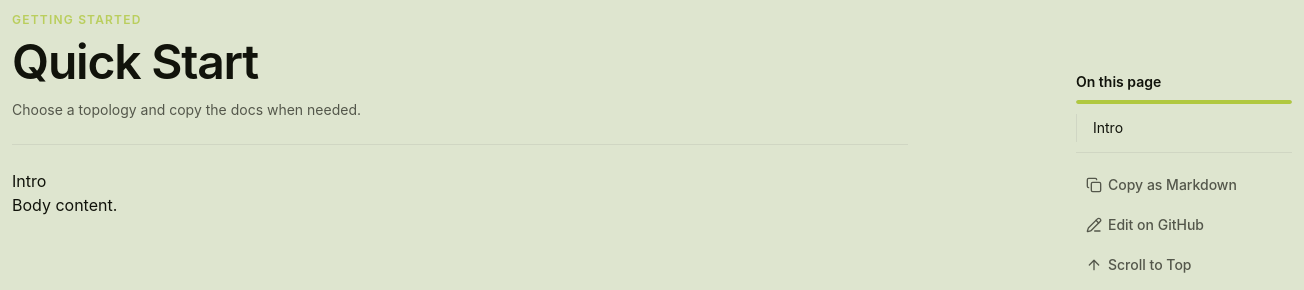
Test: DocsPage › copies the exact markdown source to the clipboard
Click the button "Copy as Markdown" at (1184, 185), box [1076,169,1292,201]
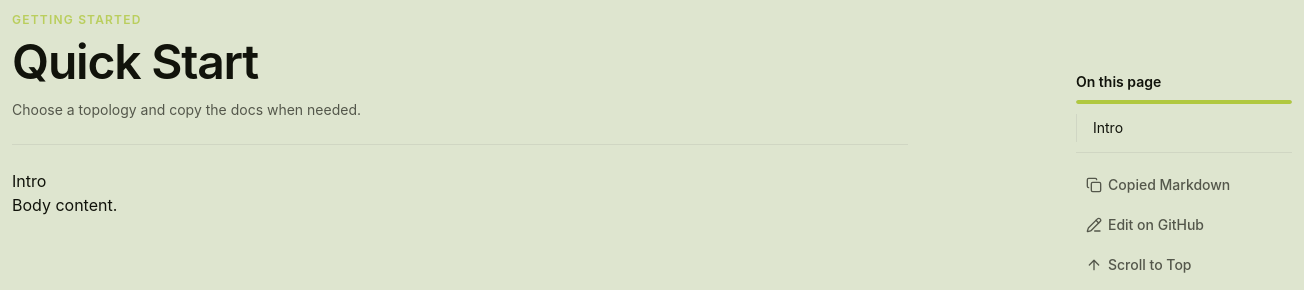
Expected: the button "Copied Markdown" is shown, [1076,169,1292,201]
